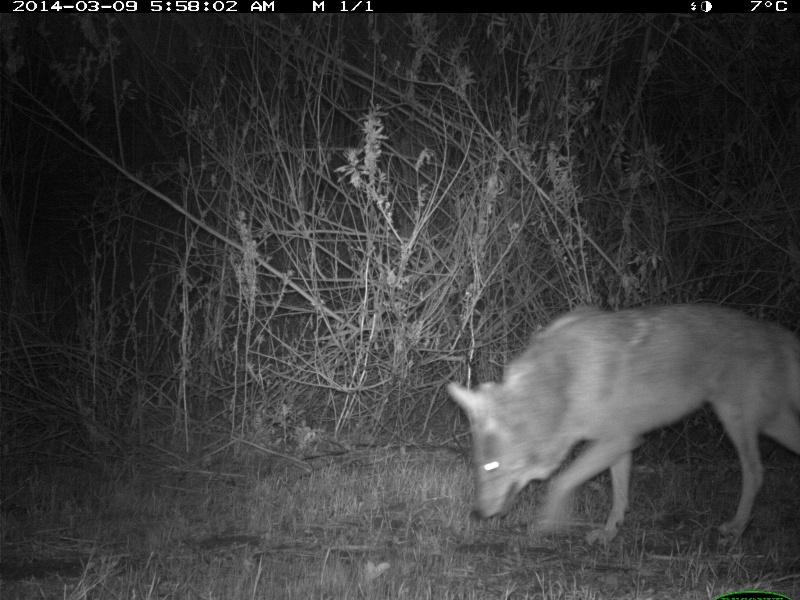coyote: (446, 294, 800, 550)
